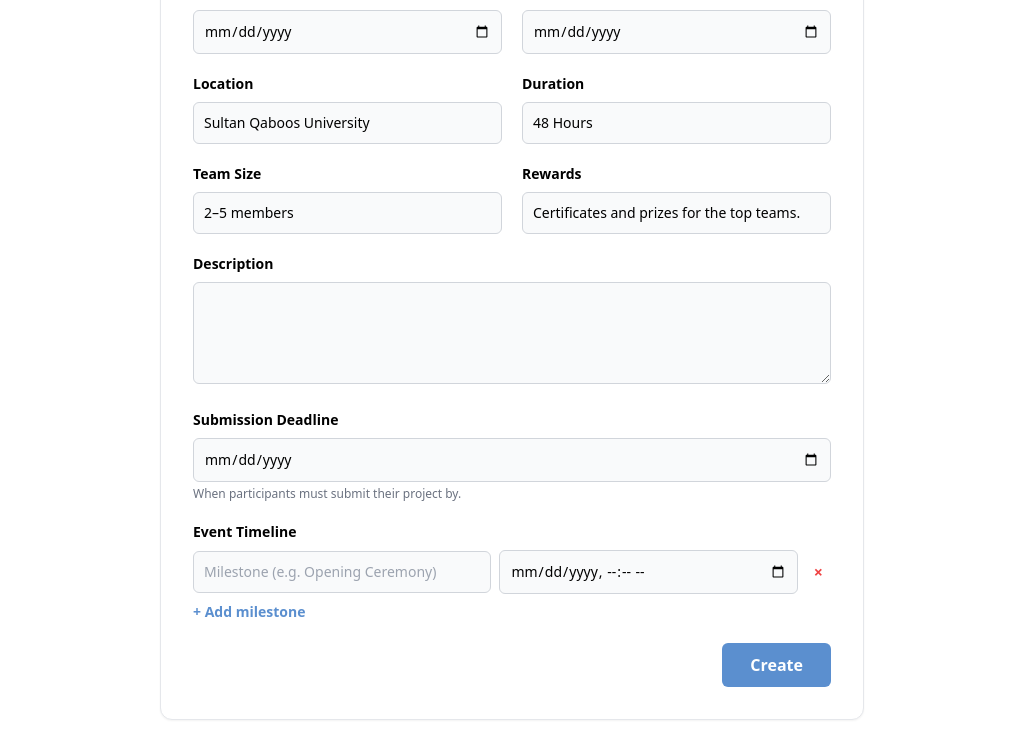
Test case: Create hackathon › requires name, dates and description
This screenshot has width=1024, height=752.
(page scrolled)
Click the button "Create" at [777, 665], box [722, 643, 831, 687]
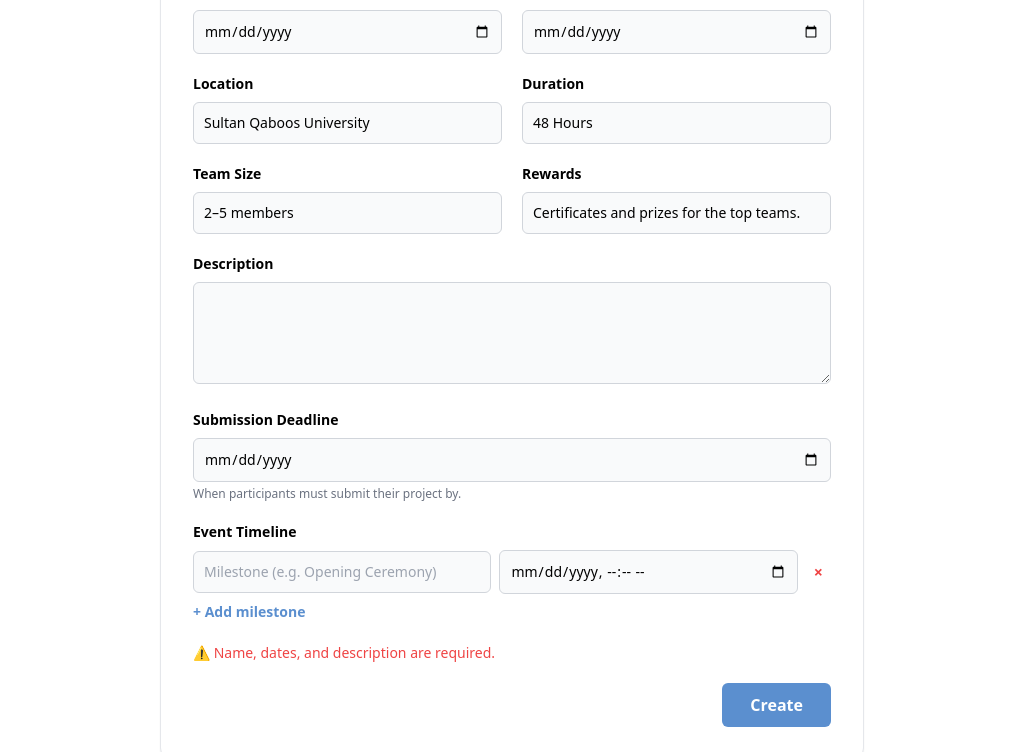
Expected: the text "⚠️ Name, dates, and description are required." is shown, [193, 643, 495, 662]
